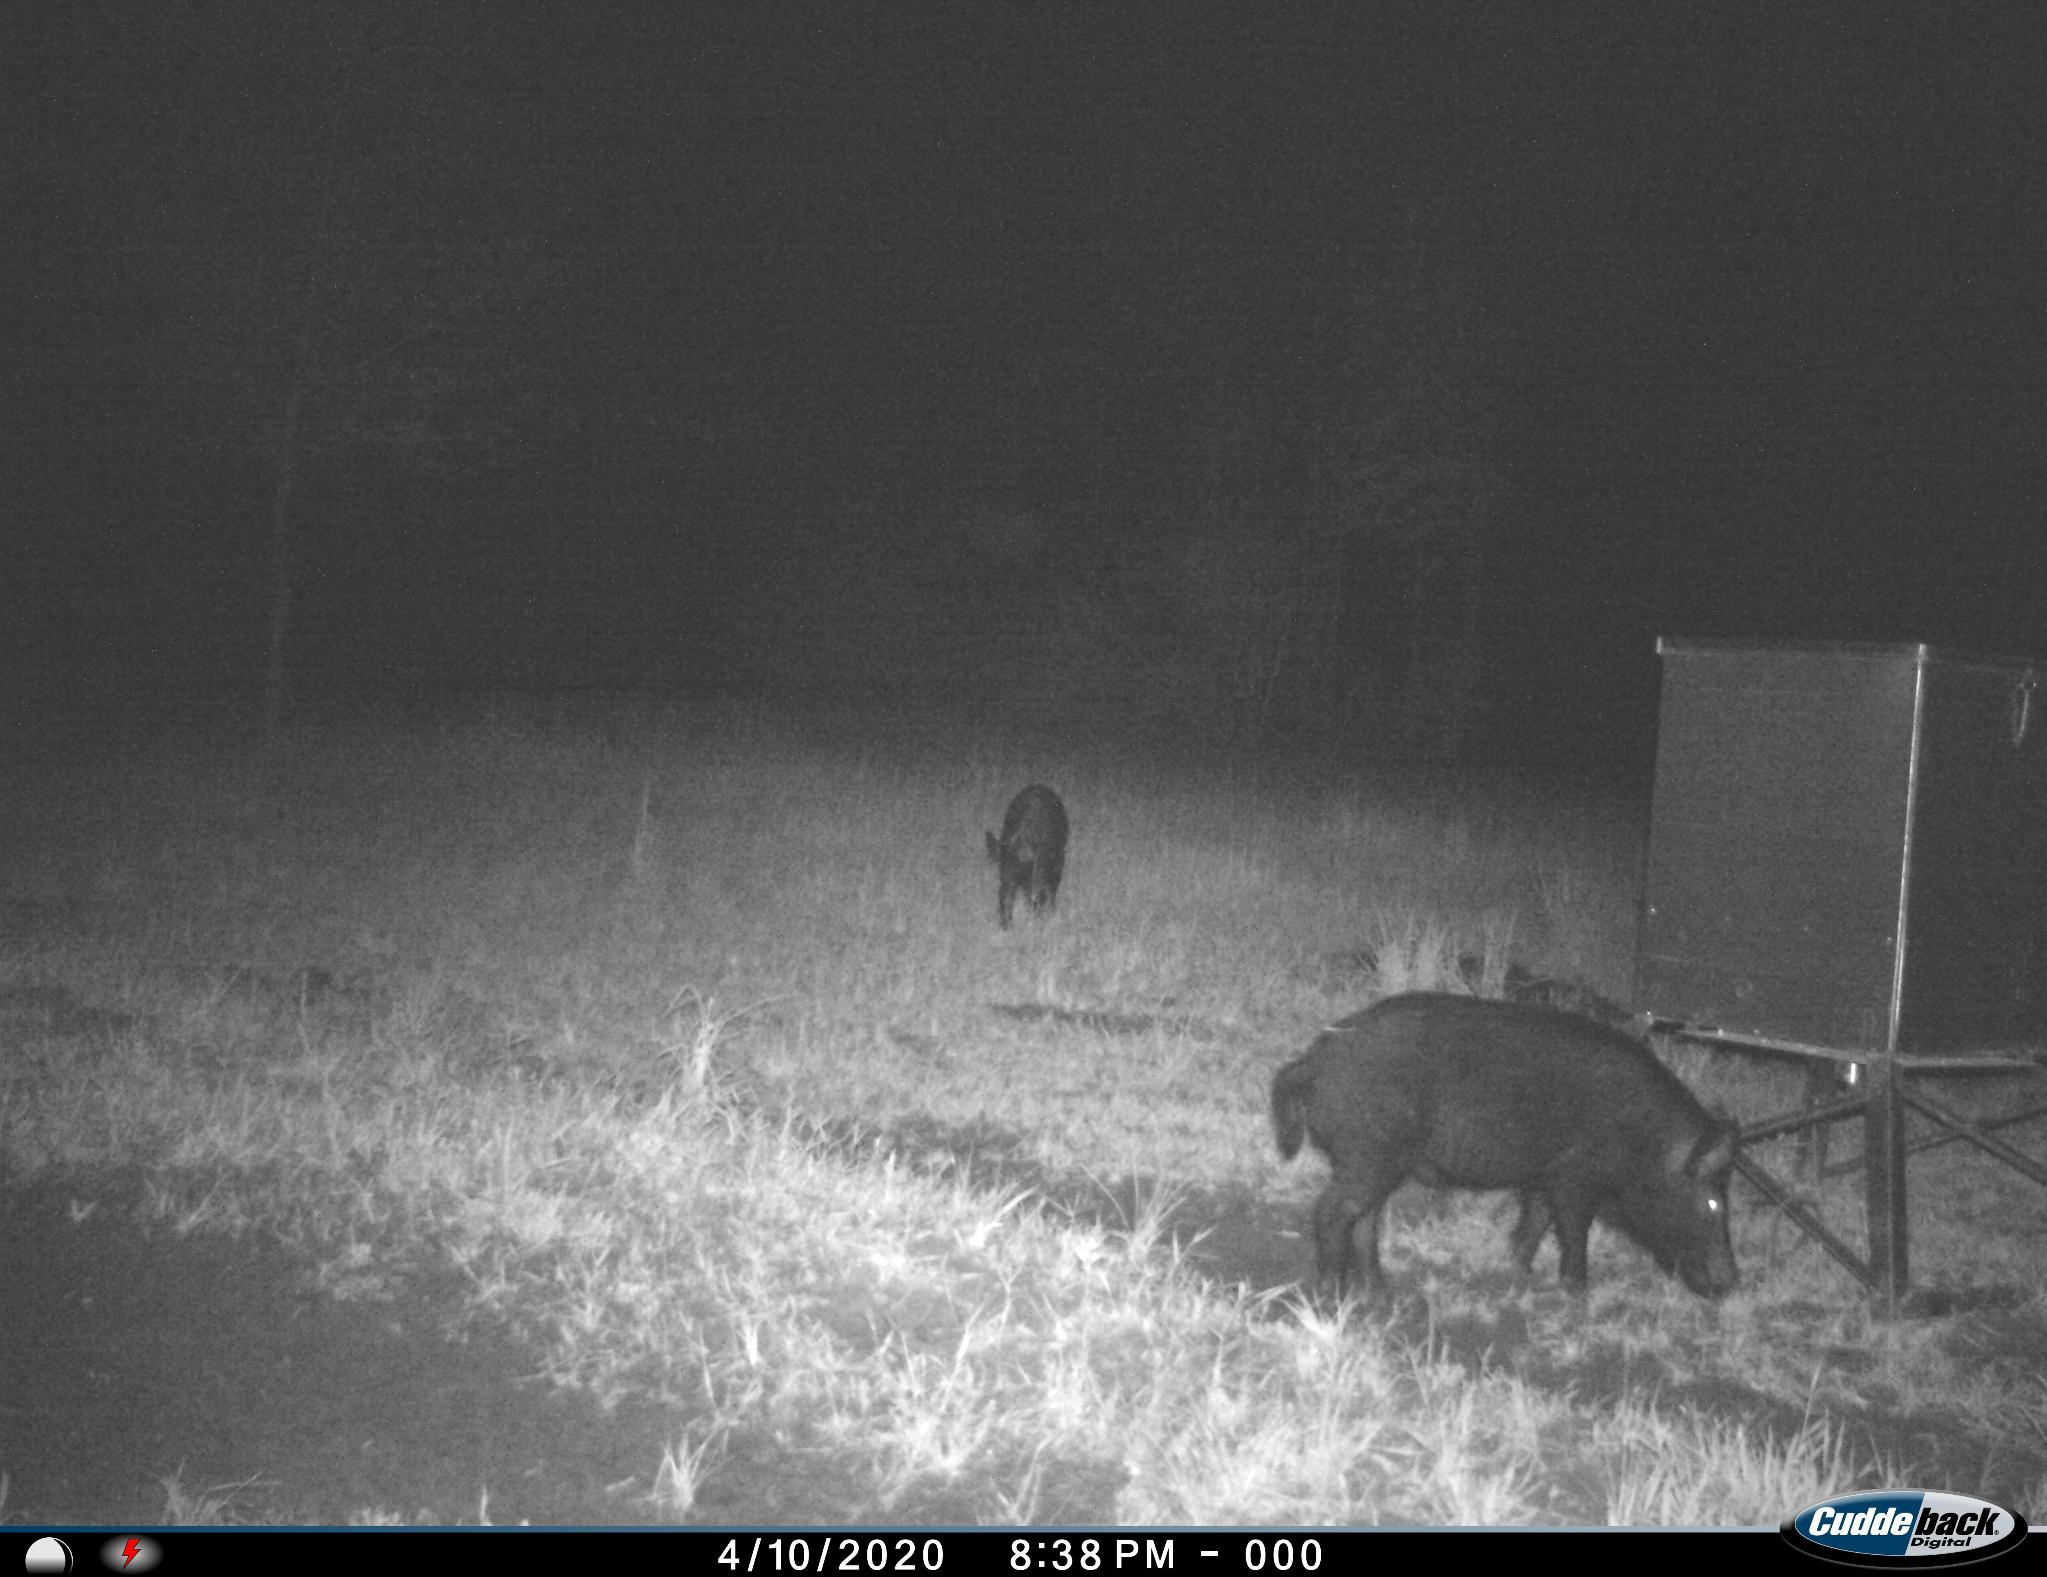Hog: (1254, 984, 1784, 1335), (980, 772, 1081, 956)
